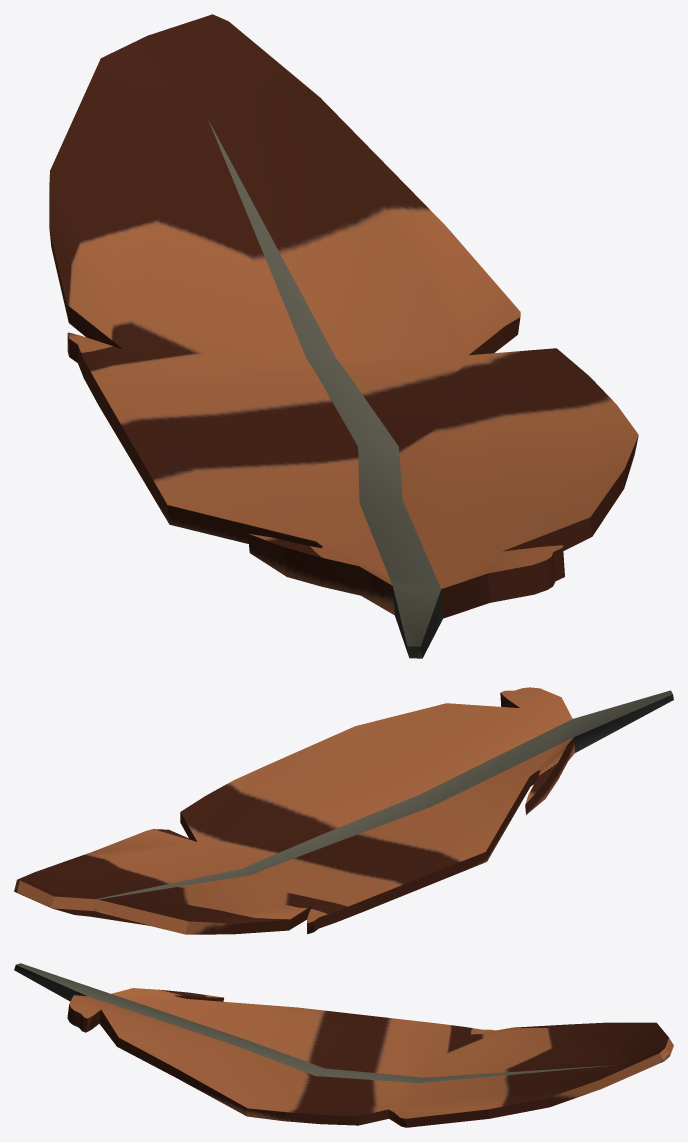
The model's file is SM_Accesory_Feather02.fbx.
3 renders of one model, top to bottom at view 1: azimuth 30°, elevation 25°; view 2: azimuth 150°, elevation 25°; view 3: azimuth 270°, elevation 25°, orthographic. The views are drawn at different scales.
Parts seen in each view (by area): view 1: SM_Accesory_Feather02; view 2: SM_Accesory_Feather02; view 3: SM_Accesory_Feather02.
Boxes of the visible parts, x1,y1,x2,y2 form: SM_Accesory_Feather02: (49,14,638,658); SM_Accesory_Feather02: (14,687,673,934); SM_Accesory_Feather02: (14,963,673,1127).
Size of the model in its own units: 0.0571 by 0.1288 by 0.0167.
